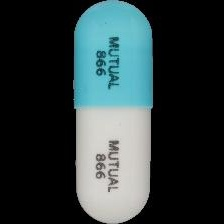42291-797: (0, 0, 224, 224)
